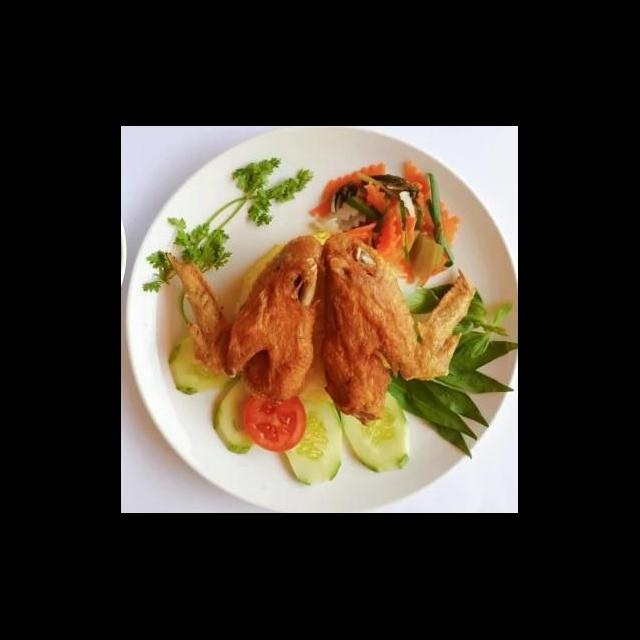dua chua: (306, 156, 466, 292)
rau ram: (374, 328, 518, 463)
thit ga: (312, 232, 478, 430), (162, 232, 332, 406)
